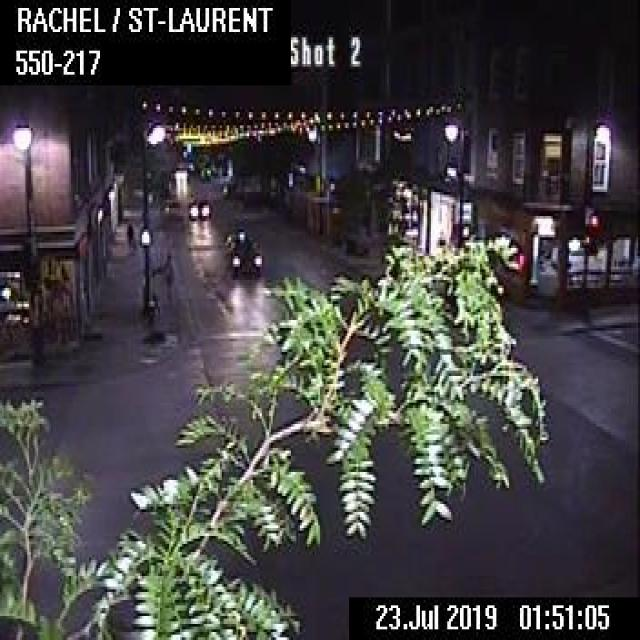pedestrian: (162, 248, 172, 297), (124, 221, 134, 248)
vehicle: (222, 229, 261, 275), (188, 194, 211, 218), (171, 165, 187, 181)
